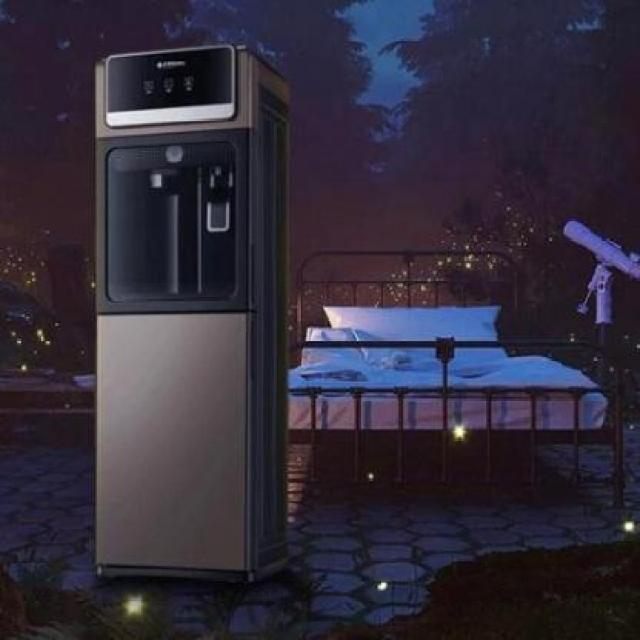cooler: (91, 45, 291, 587)
